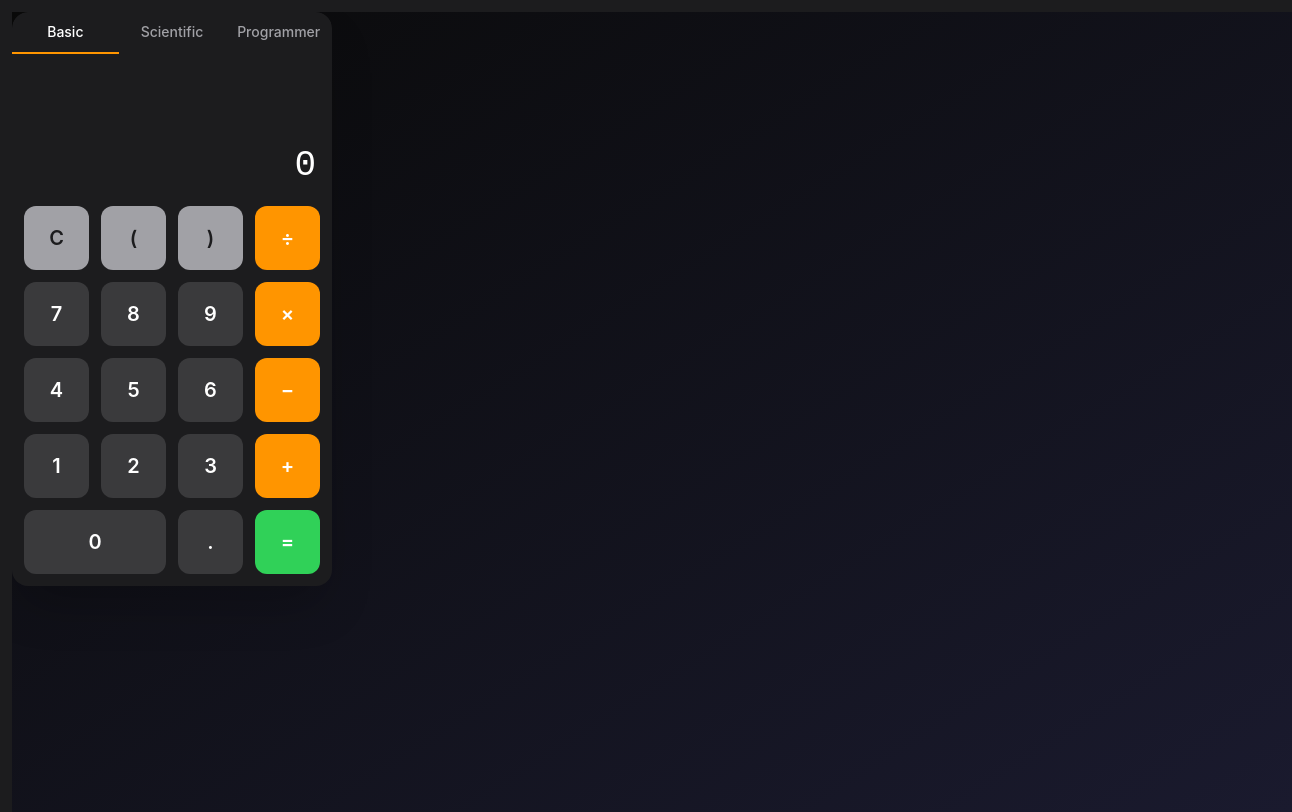
Test: Calculator › switching to Programmer shows programmer grid
The image size is (1292, 812).
Click the button "Programmer" at (279, 33), box top-left (225, 12), bottom-right (332, 54)
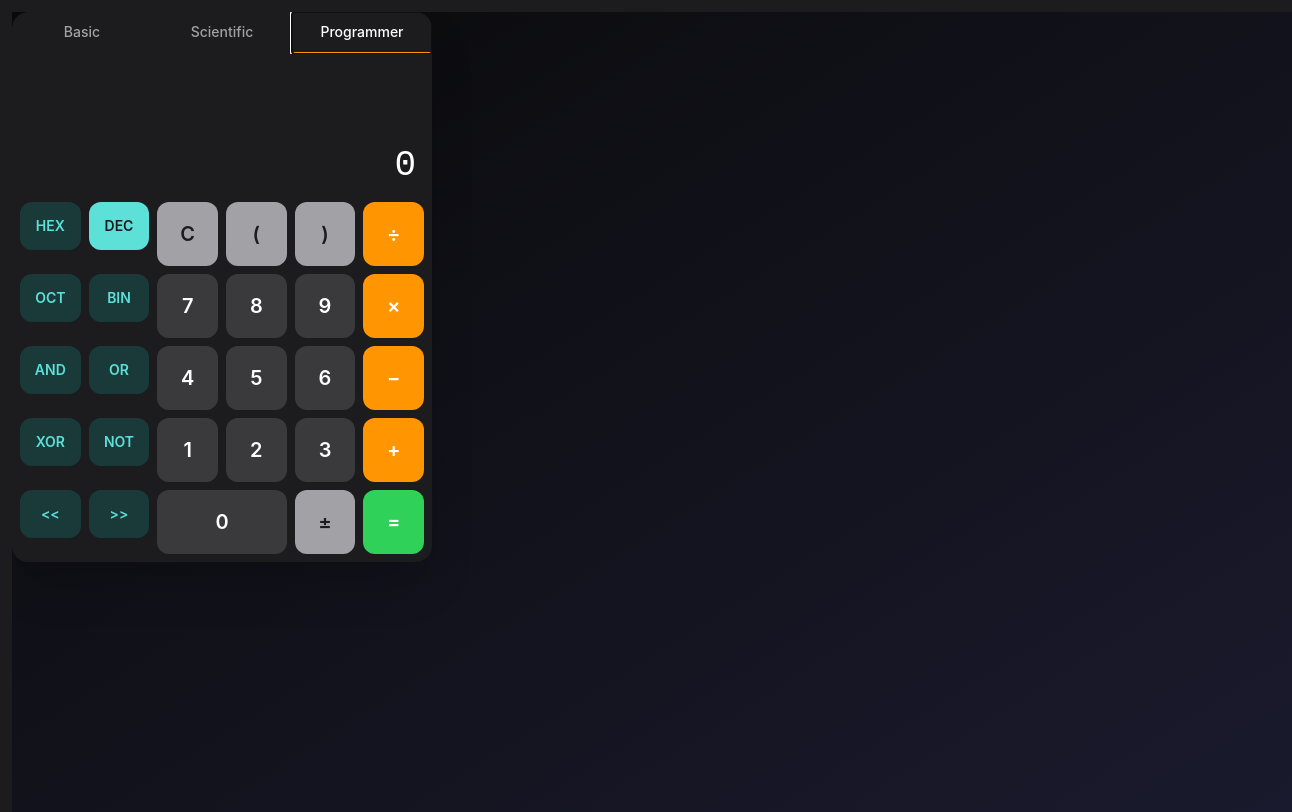
Expected: the button "AND" is shown, top-left (20, 346), bottom-right (81, 394)
Expected: the button "OR" is shown, top-left (89, 346), bottom-right (149, 394)
Expected: the button "HEX" is shown, top-left (20, 202), bottom-right (81, 250)
